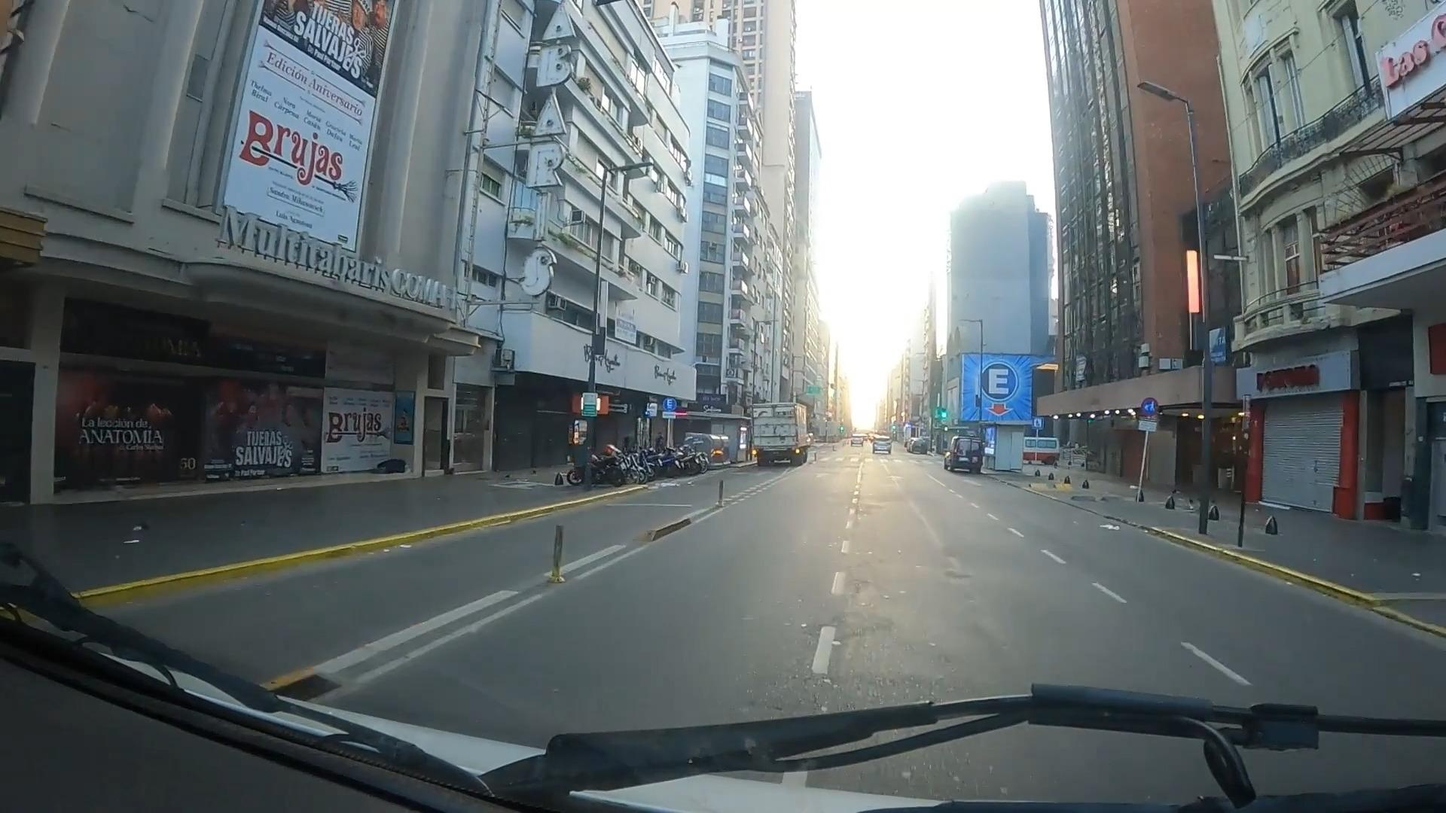Ice: (85, 444, 1445, 717)
